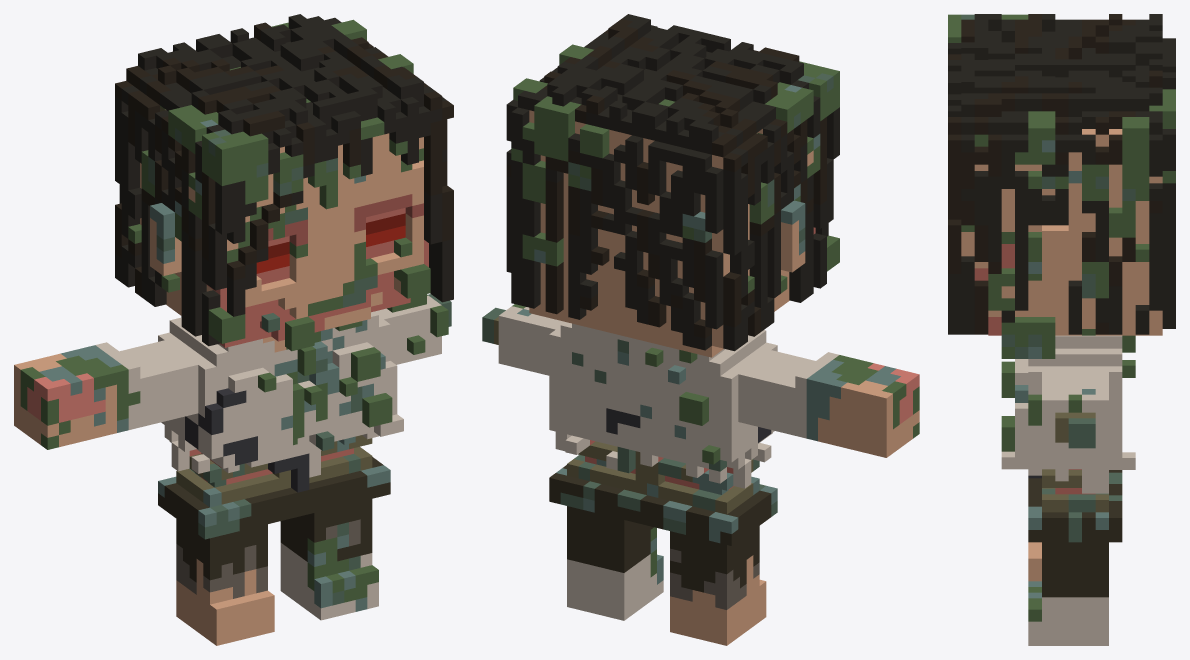
The model's file is walker6.fbx.
3 renders of one model, left to right at view 1: azimuth 30°, elevation 25°; view 2: azimuth 150°, elevation 25°; view 3: azimuth 270°, elevation 25°, orthographic.
Parts seen in each view (by area): view 1: vox_642.006, vox_642.001, vox_642, vox_642.005, vox_642.003, vox_642.002, vox_642.004; view 2: vox_642.006, vox_642, vox_642.001, vox_642.005, vox_642.003, vox_642.002, vox_642.004; view 3: vox_642.006, vox_642.001, vox_642, vox_642.002, vox_642.004, vox_642.003.
Boxes of the visible parts, bbox=[...] form: vox_642.006: bbox=[115, 14, 453, 346]; vox_642.001: bbox=[128, 19, 430, 351]; vox_642: bbox=[158, 311, 403, 539]; vox_642.005: bbox=[14, 337, 209, 449]; vox_642.003: bbox=[176, 519, 274, 645]; vox_642.002: bbox=[280, 499, 378, 620]; vox_642.004: bbox=[374, 294, 451, 364]; vox_642.006: bbox=[506, 14, 839, 351]; vox_642: bbox=[549, 322, 777, 545]; vox_642.001: bbox=[511, 44, 839, 357]; vox_642.005: bbox=[727, 347, 919, 457]; vox_642.003: bbox=[670, 526, 766, 645]; vox_642.002: bbox=[567, 506, 663, 620]; vox_642.004: bbox=[482, 304, 564, 375]; vox_642.006: bbox=[948, 14, 1175, 334]; vox_642.001: bbox=[948, 14, 1175, 358]; vox_642: bbox=[1001, 335, 1135, 542]; vox_642.002: bbox=[1028, 542, 1108, 645]; vox_642.004: bbox=[1028, 366, 1108, 448]; vox_642.003: bbox=[1028, 542, 1041, 581].
Size of the model in its own units: 3.6 by 4.5 by 1.7.
